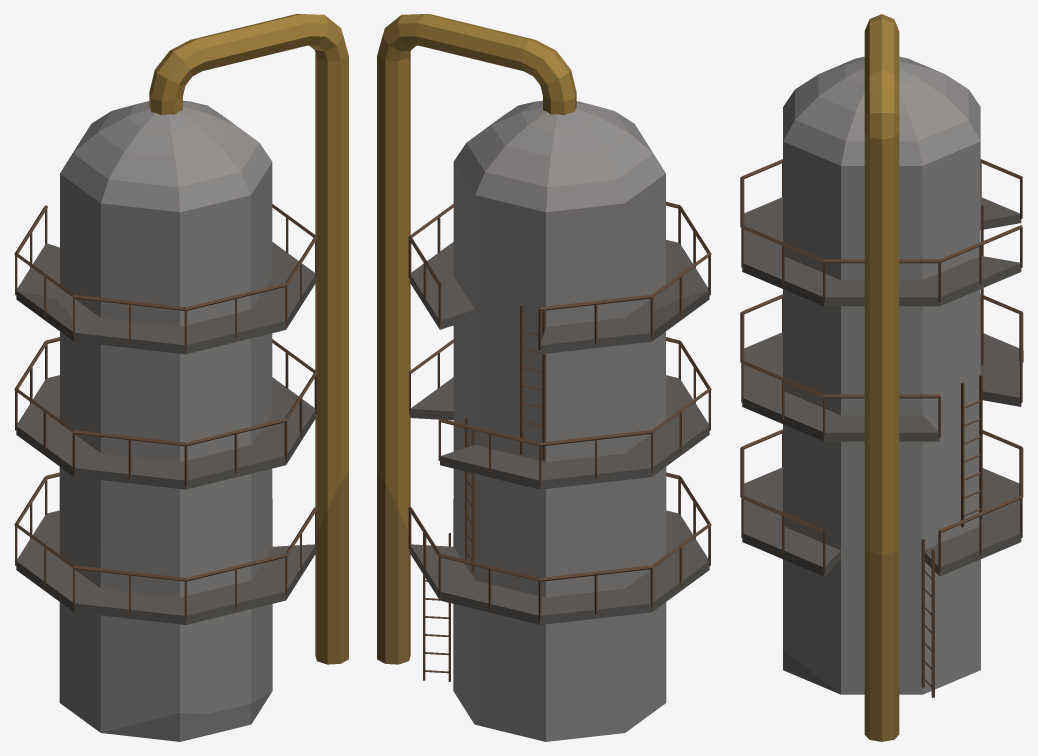
The model's file is SM_Props_Industrial_Tank_01.fbx.
3 views of the same model, side by side, from view 1: azimuth 30°, elevation 25°; view 2: azimuth 150°, elevation 25°; view 3: azimuth 270°, elevation 25° (orthographic).
Visible parts, largest first — view 1: SM_Props_Industrial_Tank_01; view 2: SM_Props_Industrial_Tank_01; view 3: SM_Props_Industrial_Tank_01.
Part boxes in pixels (box(x1,y1,x2,y2)): SM_Props_Industrial_Tank_01: box(14, 14, 348, 741); SM_Props_Industrial_Tank_01: box(377, 14, 711, 741); SM_Props_Industrial_Tank_01: box(740, 14, 1023, 741).
Size of the model in its own units: 634 by 1299 by 513.
